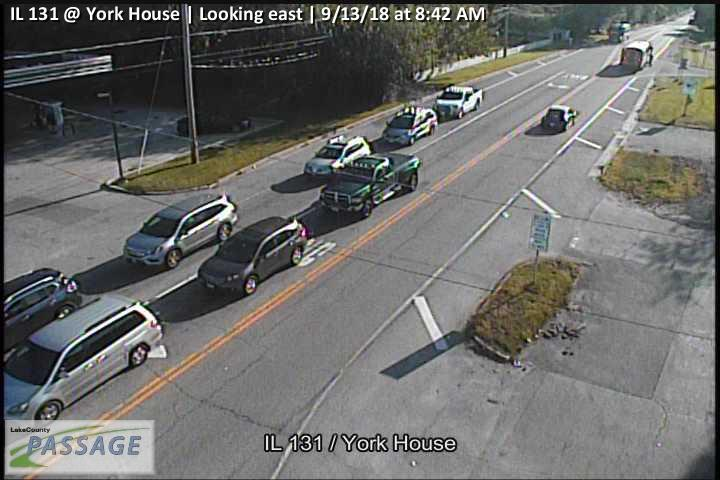SUV: (1, 290, 164, 429), (120, 191, 238, 269), (195, 214, 308, 294), (1, 267, 83, 362)
Sedan: (318, 152, 422, 223), (303, 134, 372, 178), (381, 104, 438, 149), (540, 103, 577, 134)
Truck: (432, 83, 483, 118)
